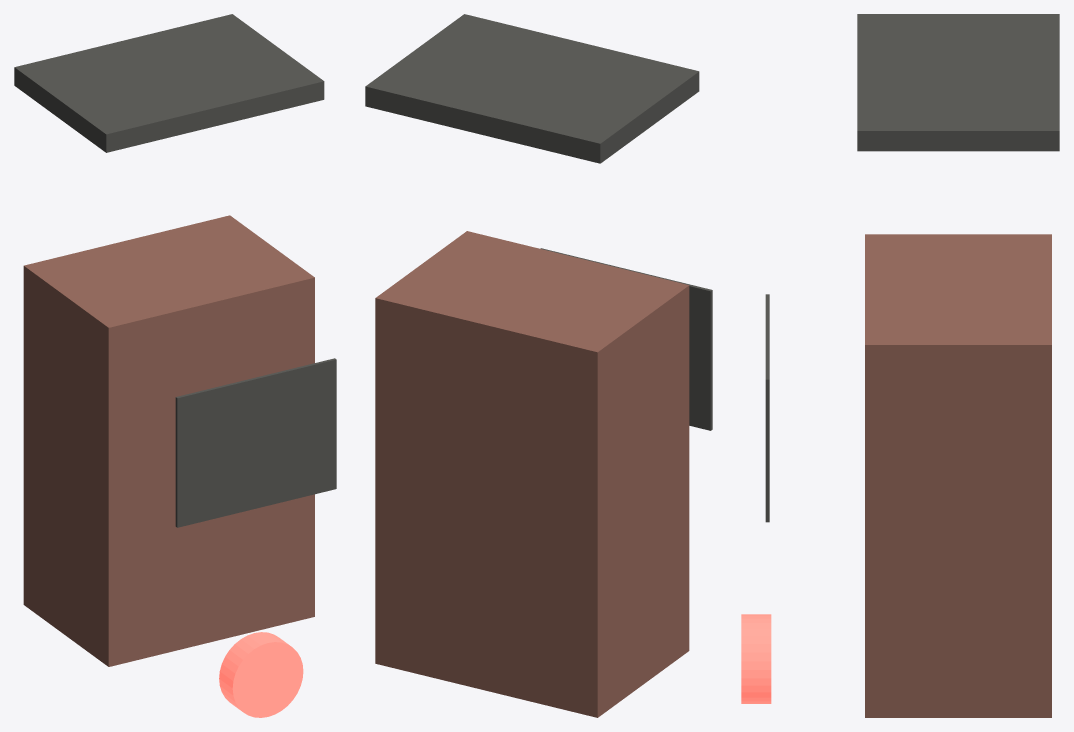
The model's file is ammostation.glb.
3 renders of one model, left to right at view 1: azimuth 30°, elevation 25°; view 2: azimuth 150°, elevation 25°; view 3: azimuth 270°, elevation 25°, orthographic. The views are drawn at different scales.
Visible parts, largest first — view 1: Body, Trim, Bezel, Button; view 2: Body, Trim, Bezel; view 3: Body, Trim, Button, Bezel.
Boxes of the visible parts, box(x1,y1,x2,y2) form: Body: box(23, 215, 314, 666); Trim: box(14, 14, 324, 152); Bezel: box(175, 358, 336, 527); Button: box(219, 632, 303, 717); Body: box(375, 231, 689, 717); Trim: box(365, 14, 699, 163); Bezel: box(540, 248, 712, 430); Body: box(865, 234, 1051, 717); Trim: box(857, 14, 1059, 151); Button: box(741, 614, 771, 703); Bezel: box(765, 294, 769, 522).
Bounding box in the file's own units: 0.37 × 0.925 × 0.425.
